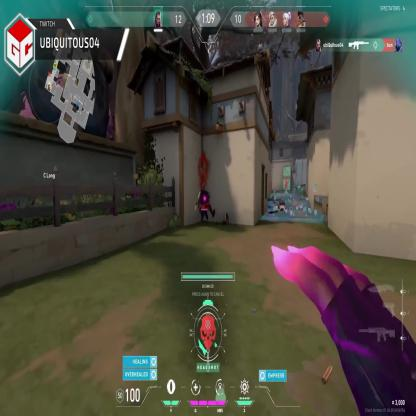enemy: (284, 178, 288, 192), (270, 178, 272, 191)
enemy_head: (286, 178, 288, 182)
